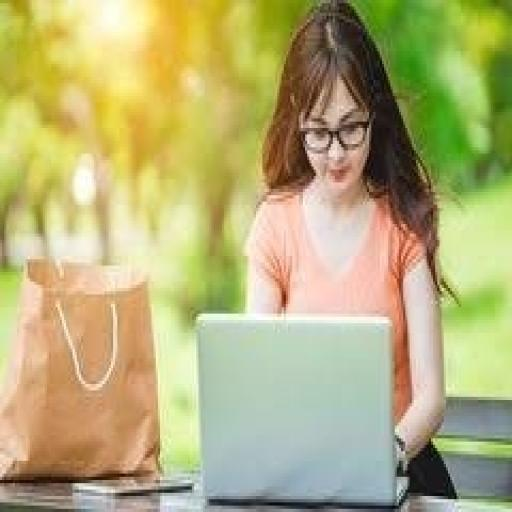using_laptop: (192, 310, 410, 506)
